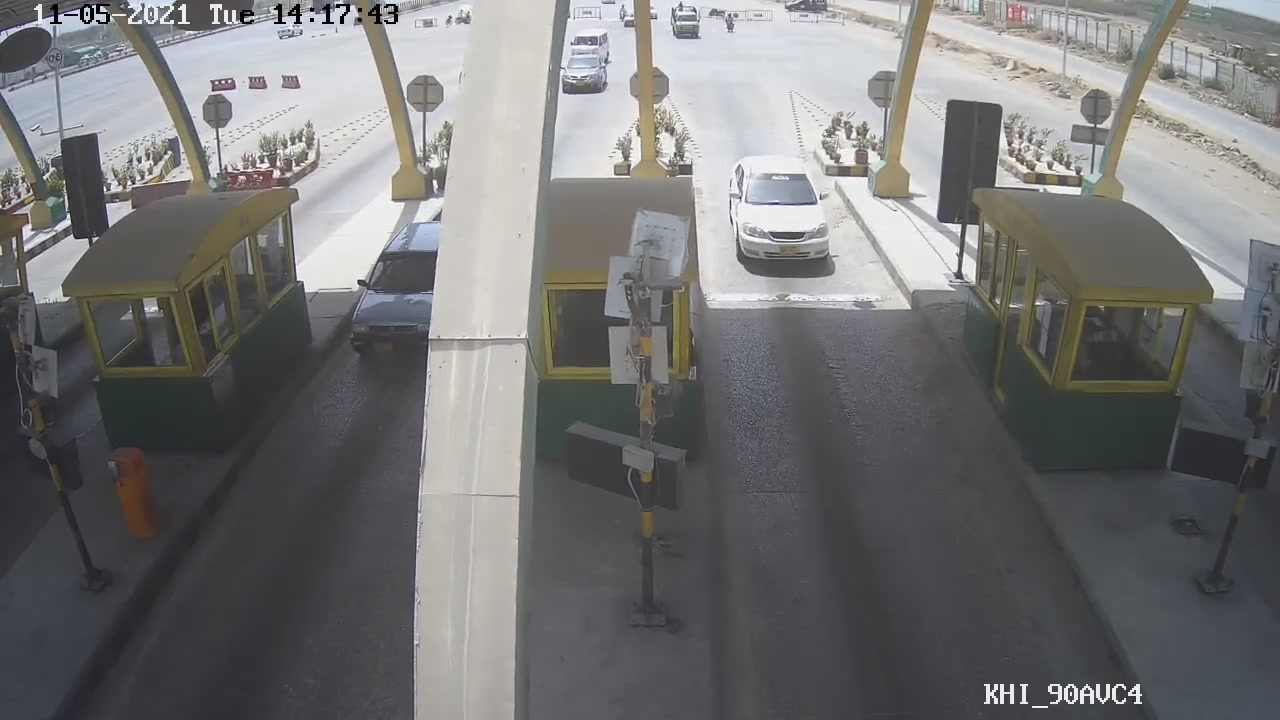F1: (722, 148, 842, 272)
